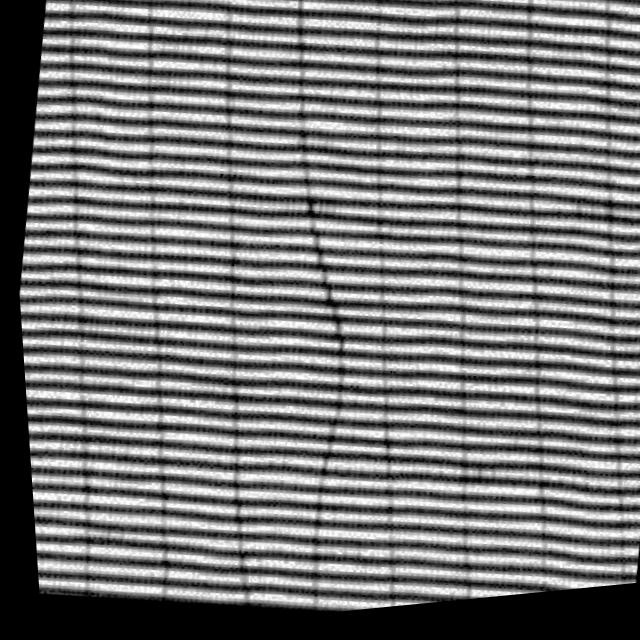Stitch: (223, 150, 421, 512)
